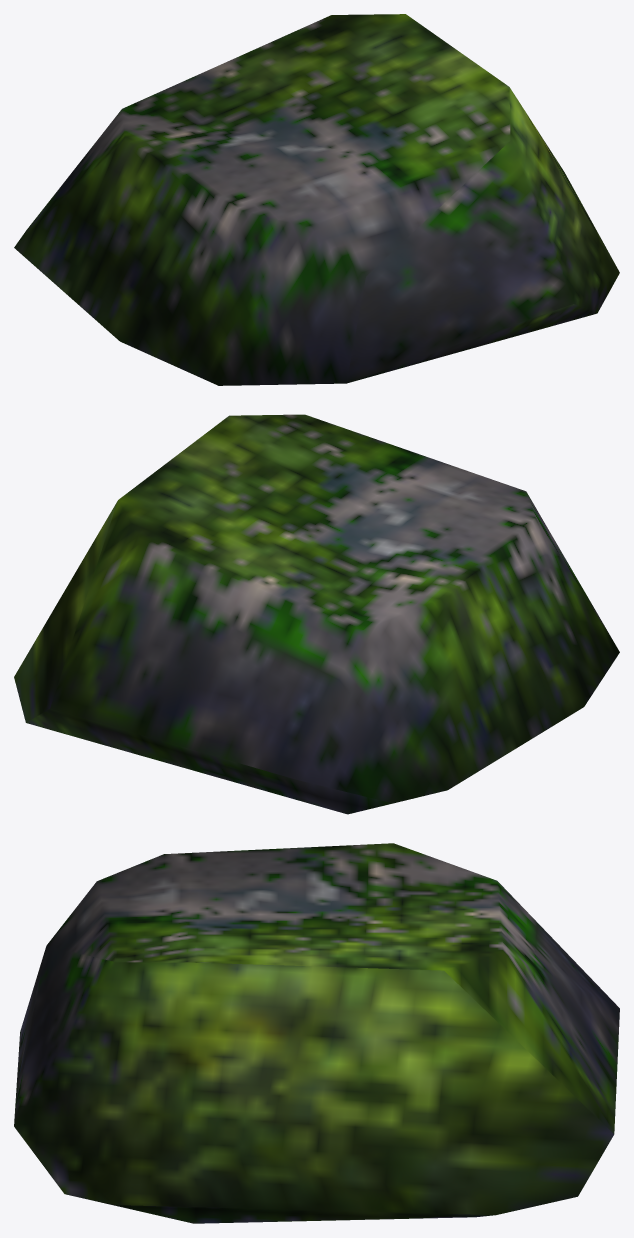
Rendered from Rock3.fbx.
3 renders of one model, top to bottom at view 1: azimuth 30°, elevation 25°; view 2: azimuth 150°, elevation 25°; view 3: azimuth 270°, elevation 25°, orthographic. The views are drawn at different scales.
Parts seen in each view (by area): view 1: Cube.007; view 2: Cube.007; view 3: Cube.007.
Boxes of the visible parts, x1,y1,x2,y2 form: Cube.007: (14,14,619,385); Cube.007: (14,414,619,814); Cube.007: (14,843,619,1223).
Size of the model in its own units: 255 by 111 by 260.
